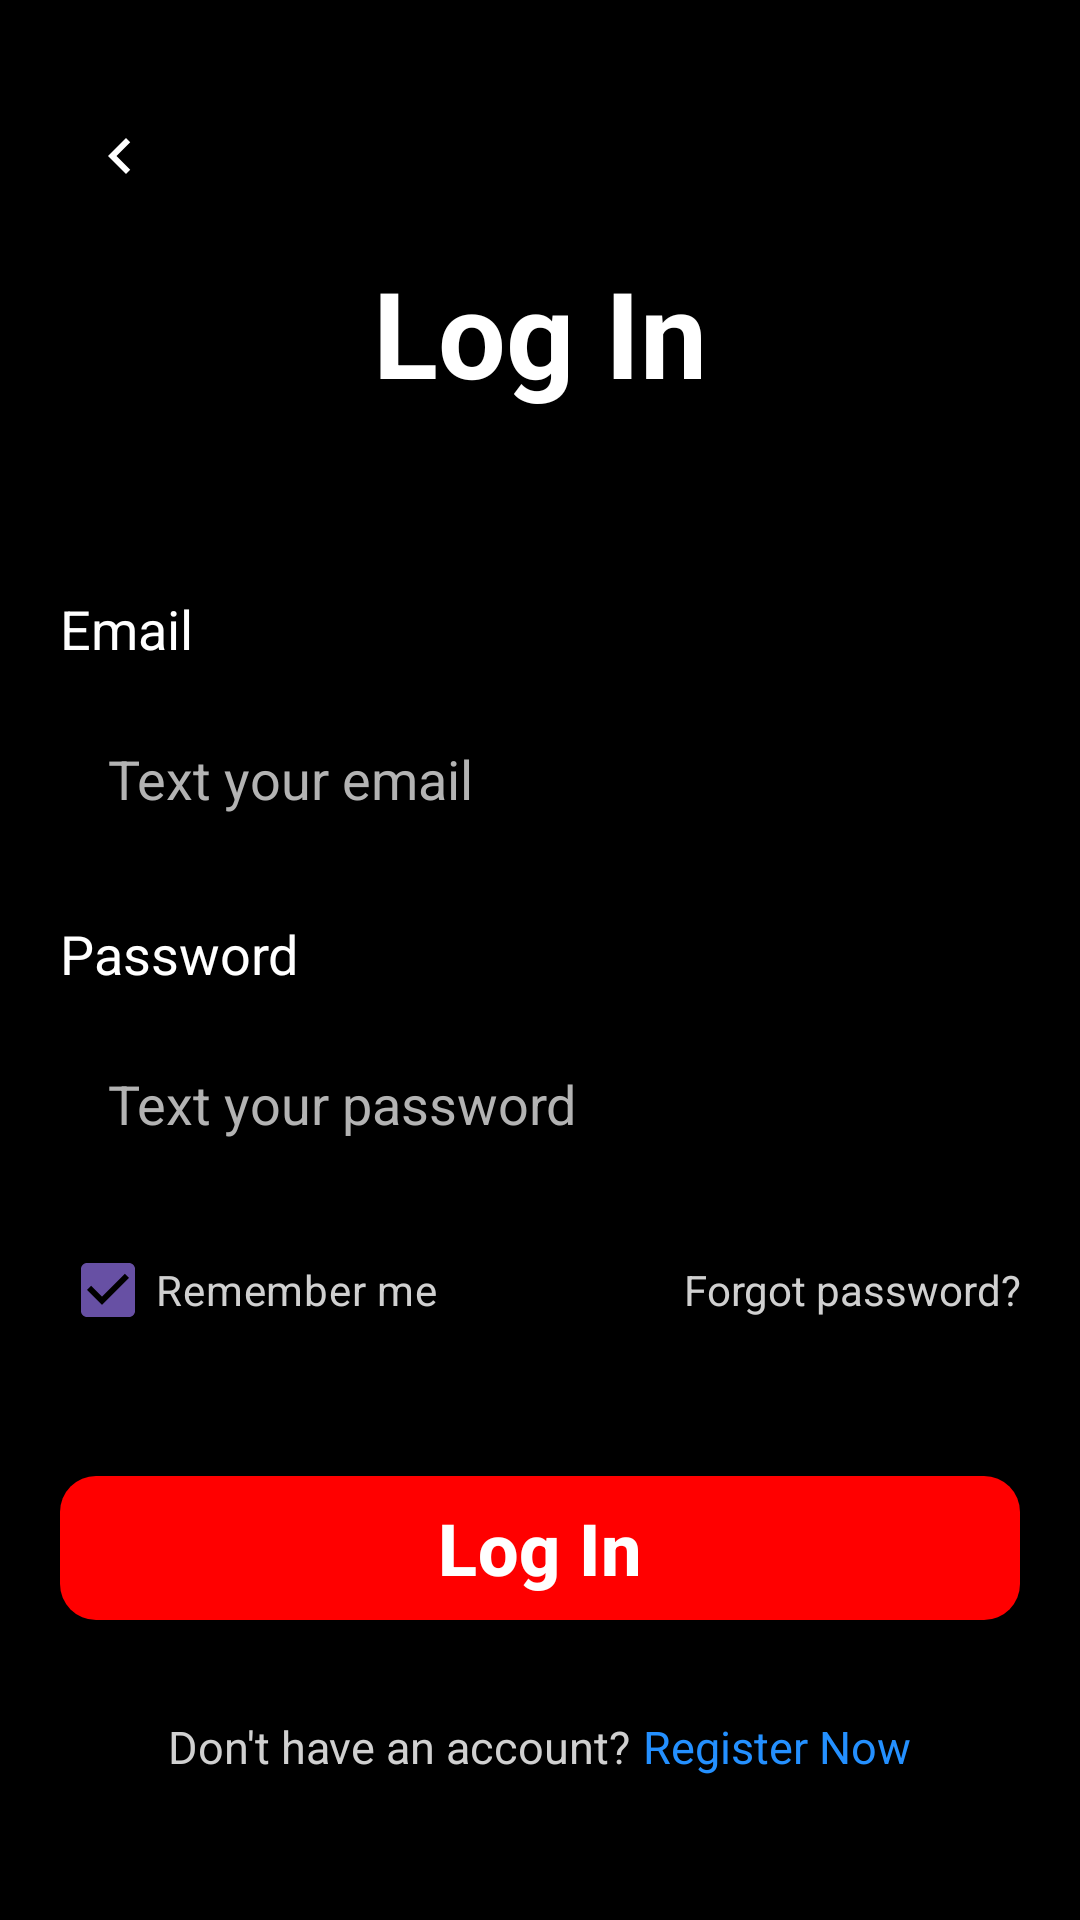

Where icons sit on this 1080 x 1920 app screen, as (x1, y1, x2, y2):
Go back: (108, 138, 130, 174)
